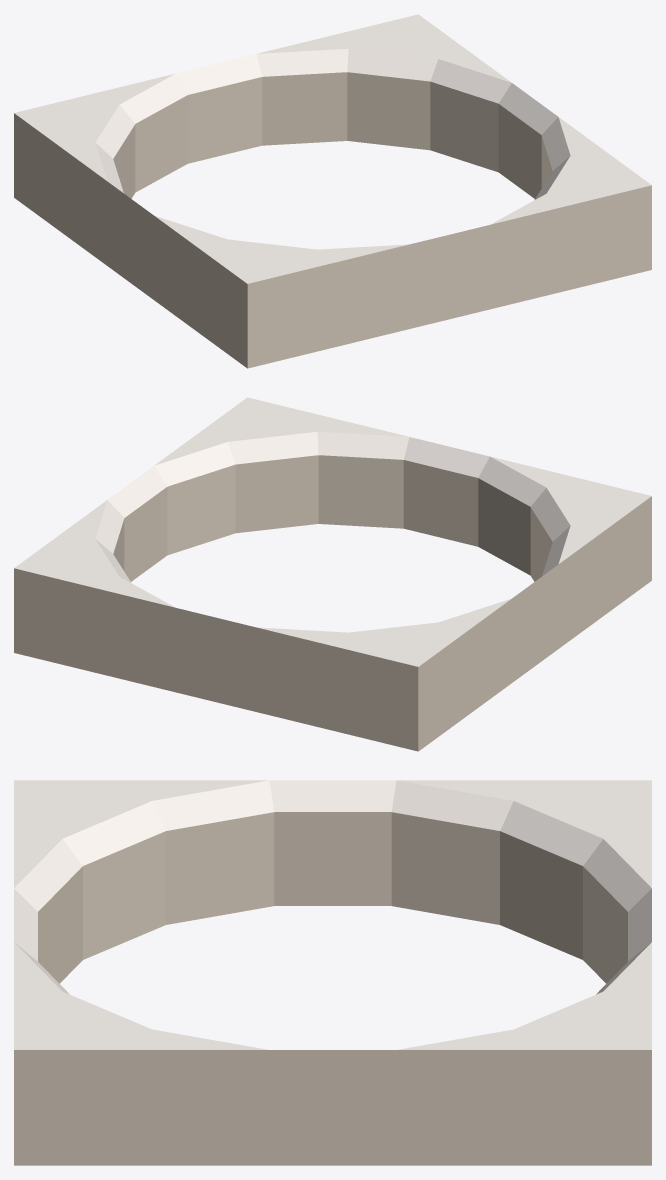
Rendered from Puzzle_Track_Rotating_Housing_Unconnected.glb.
3 views of the same model, one above another, from view 1: azimuth 30°, elevation 25°; view 2: azimuth 150°, elevation 25°; view 3: azimuth 270°, elevation 25° (orthographic). The views are drawn at different scales.
Parts seen in each view (by area): view 1: Puzzle_Track_Rotating_Housing_Unconnected; view 2: Puzzle_Track_Rotating_Housing_Unconnected; view 3: Puzzle_Track_Rotating_Housing_Unconnected.
Part boxes in pixels (x1=…): Puzzle_Track_Rotating_Housing_Unconnected: x1=14, y1=14, x2=651, y2=368; Puzzle_Track_Rotating_Housing_Unconnected: x1=14, y1=397, x2=651, y2=751; Puzzle_Track_Rotating_Housing_Unconnected: x1=14, y1=780, x2=651, y2=1165.
Bounding box in the file's own units: 1 × 0.2 × 1.
